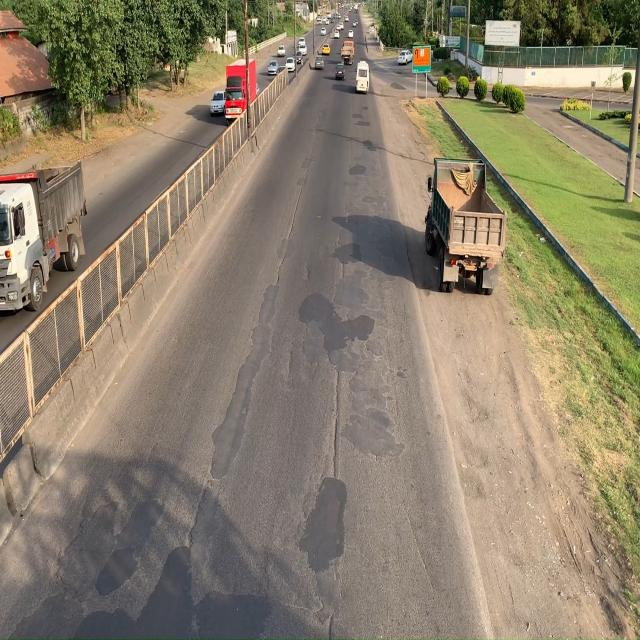Truck: (424, 156, 508, 298), (0, 171, 69, 313), (225, 64, 255, 121)
cars: (210, 91, 224, 114)
